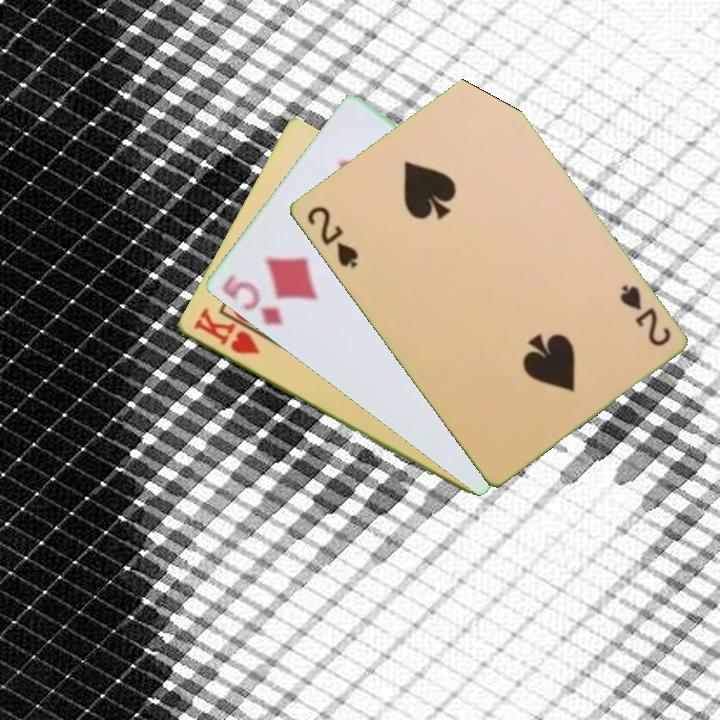2s: (302, 202, 361, 271), (615, 280, 674, 349)
5d: (217, 270, 285, 329)
Kh: (189, 305, 263, 358)
